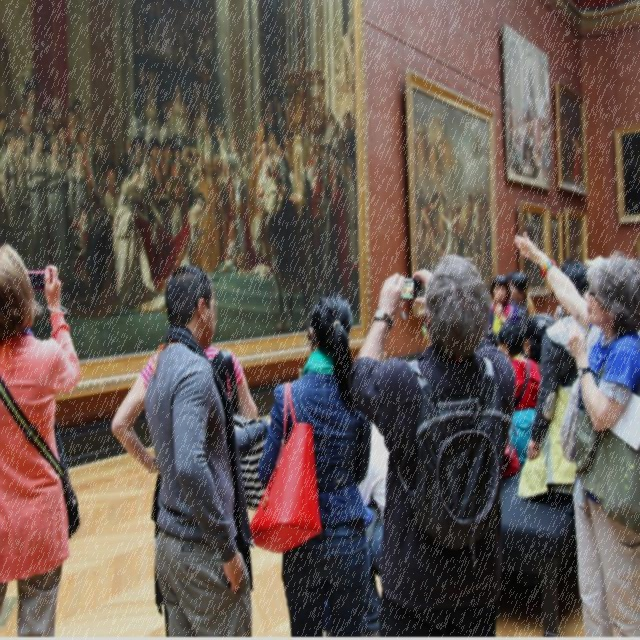pessoa: (0, 66, 360, 303), (338, 251, 522, 638), (511, 231, 639, 638), (136, 255, 270, 639), (107, 336, 264, 638), (244, 286, 377, 638), (0, 234, 91, 638), (526, 258, 590, 461), (352, 414, 394, 636), (494, 320, 542, 500), (420, 174, 490, 256), (508, 100, 550, 174), (502, 268, 538, 330), (487, 274, 520, 338), (520, 317, 545, 365), (564, 133, 584, 189), (588, 248, 628, 262)
